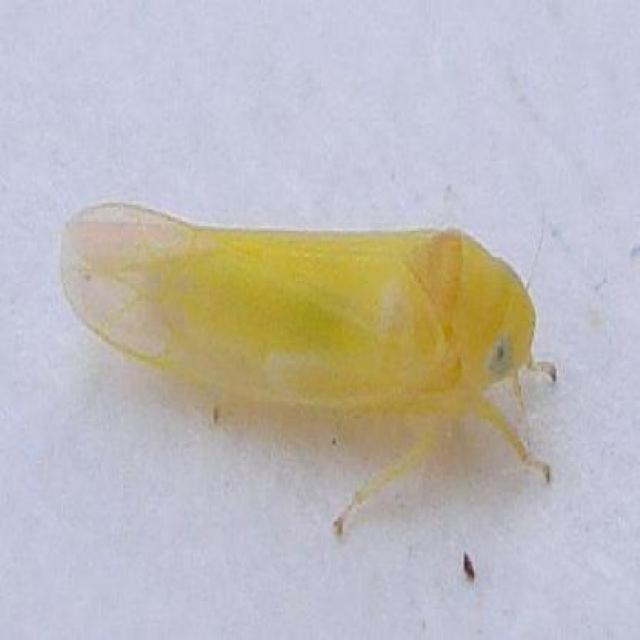green-leafhopper: (56, 207, 558, 530)
